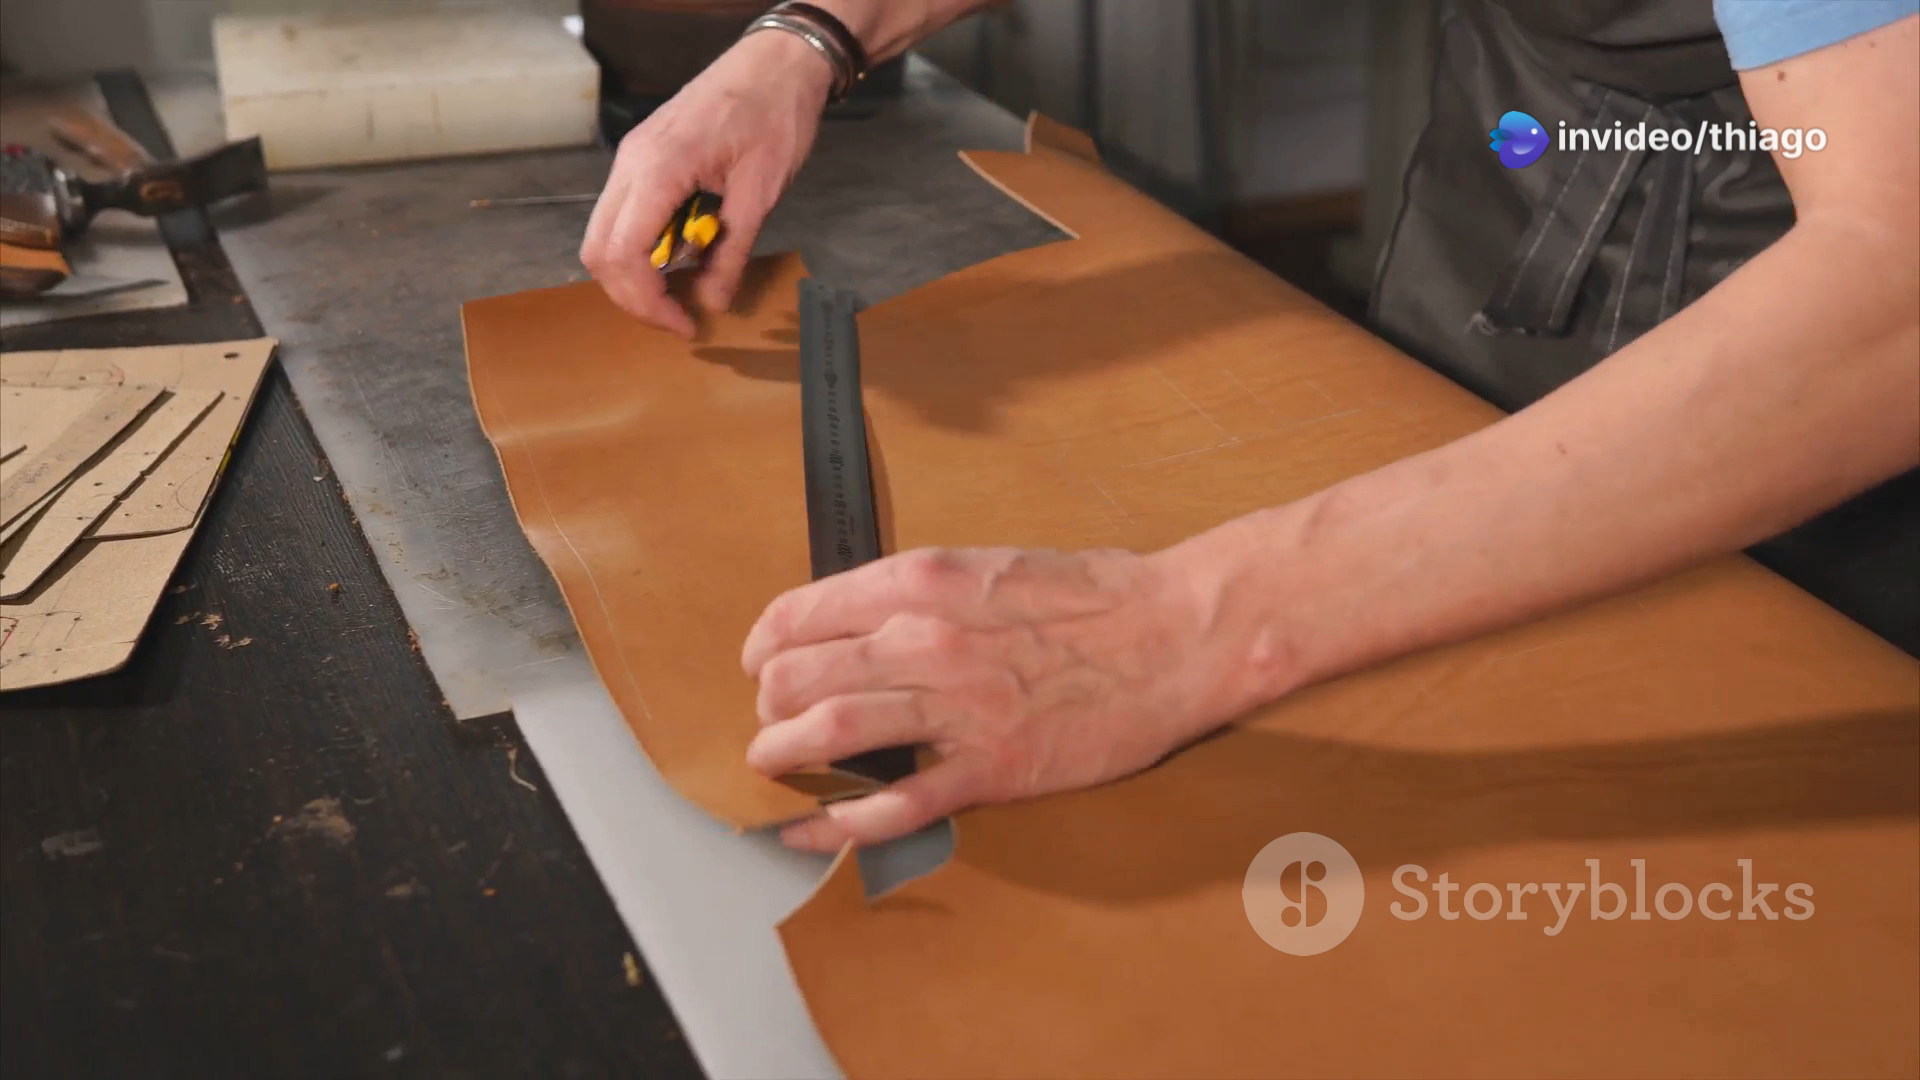cortante: (658, 248, 704, 270)
